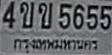4: (2, 0, 14, 27)
5: (58, 3, 71, 28), (86, 4, 98, 29), (100, 4, 112, 29)
6: (72, 3, 84, 28)
A02: (19, 1, 34, 27), (38, 2, 52, 28)
BKK: (11, 36, 99, 54)
